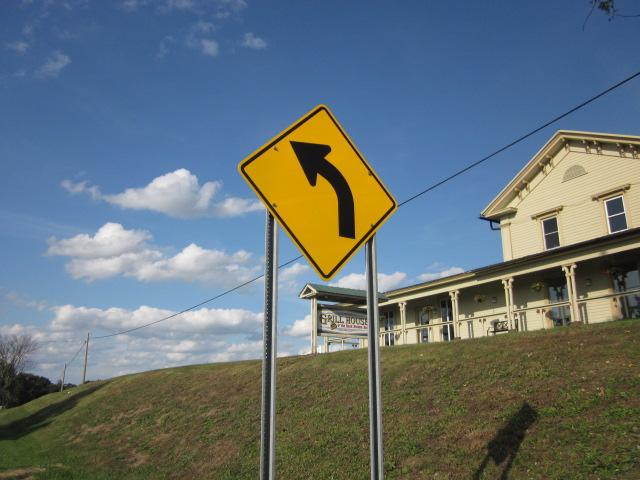warning: (234, 104, 407, 282)
